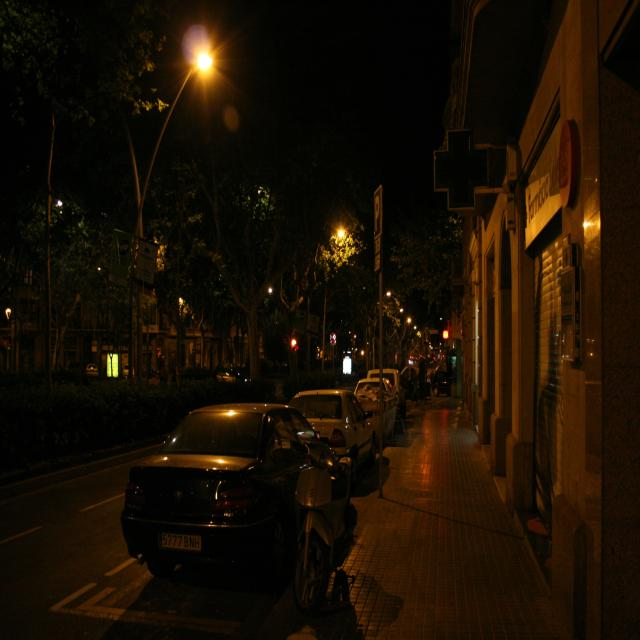Car: (136, 409, 334, 575), (287, 373, 411, 461)
